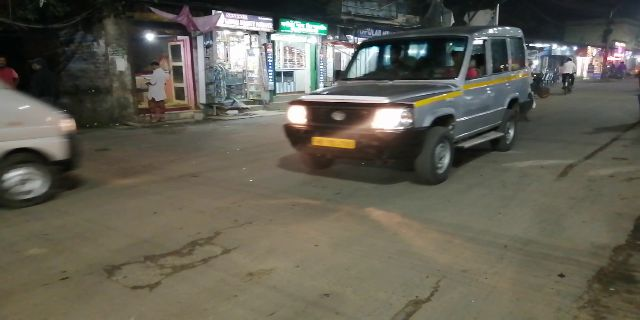Car: (283, 26, 531, 185)
